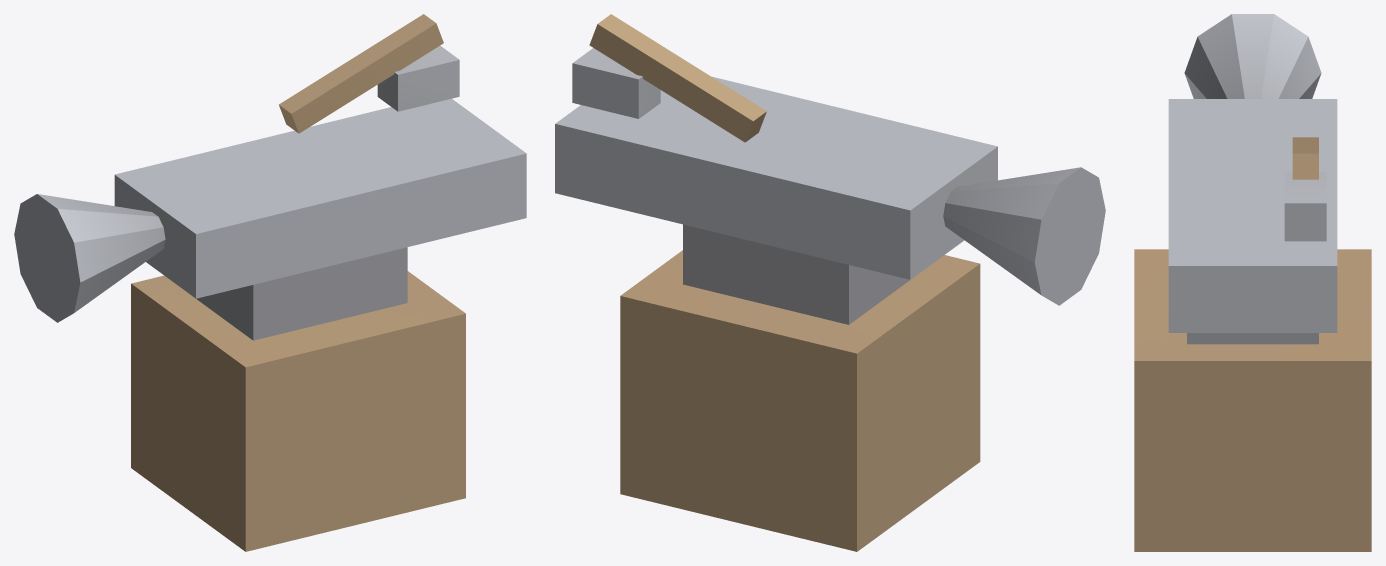
The model's file is VAnvil.fbx.
3 views of the same model, side by side, from view 1: azimuth 30°, elevation 25°; view 2: azimuth 150°, elevation 25°; view 3: azimuth 270°, elevation 25° (orthographic). The views are drawn at different scales.
Parts seen in each view (by area): view 1: VAnvil; view 2: VAnvil; view 3: VAnvil.
Boxes of the visible parts, x1,y1,x2,y2 form: VAnvil: (14,14,526,551); VAnvil: (555,14,1105,551); VAnvil: (1134,14,1371,551).
Size of the model in its own units: 0.995 by 0.8833 by 0.45.
